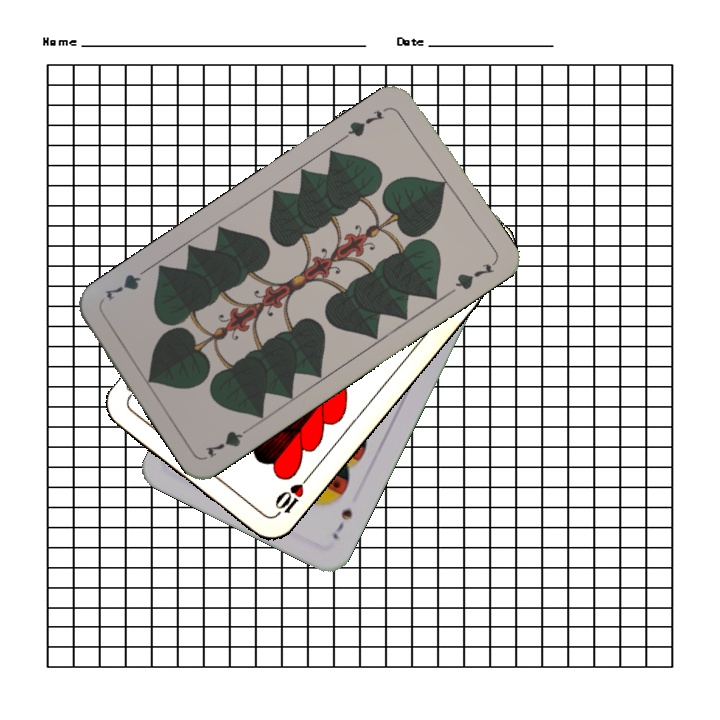G7: (201, 421, 256, 460), (339, 106, 387, 142)
H10: (269, 471, 313, 520)
S7: (328, 504, 355, 542)
